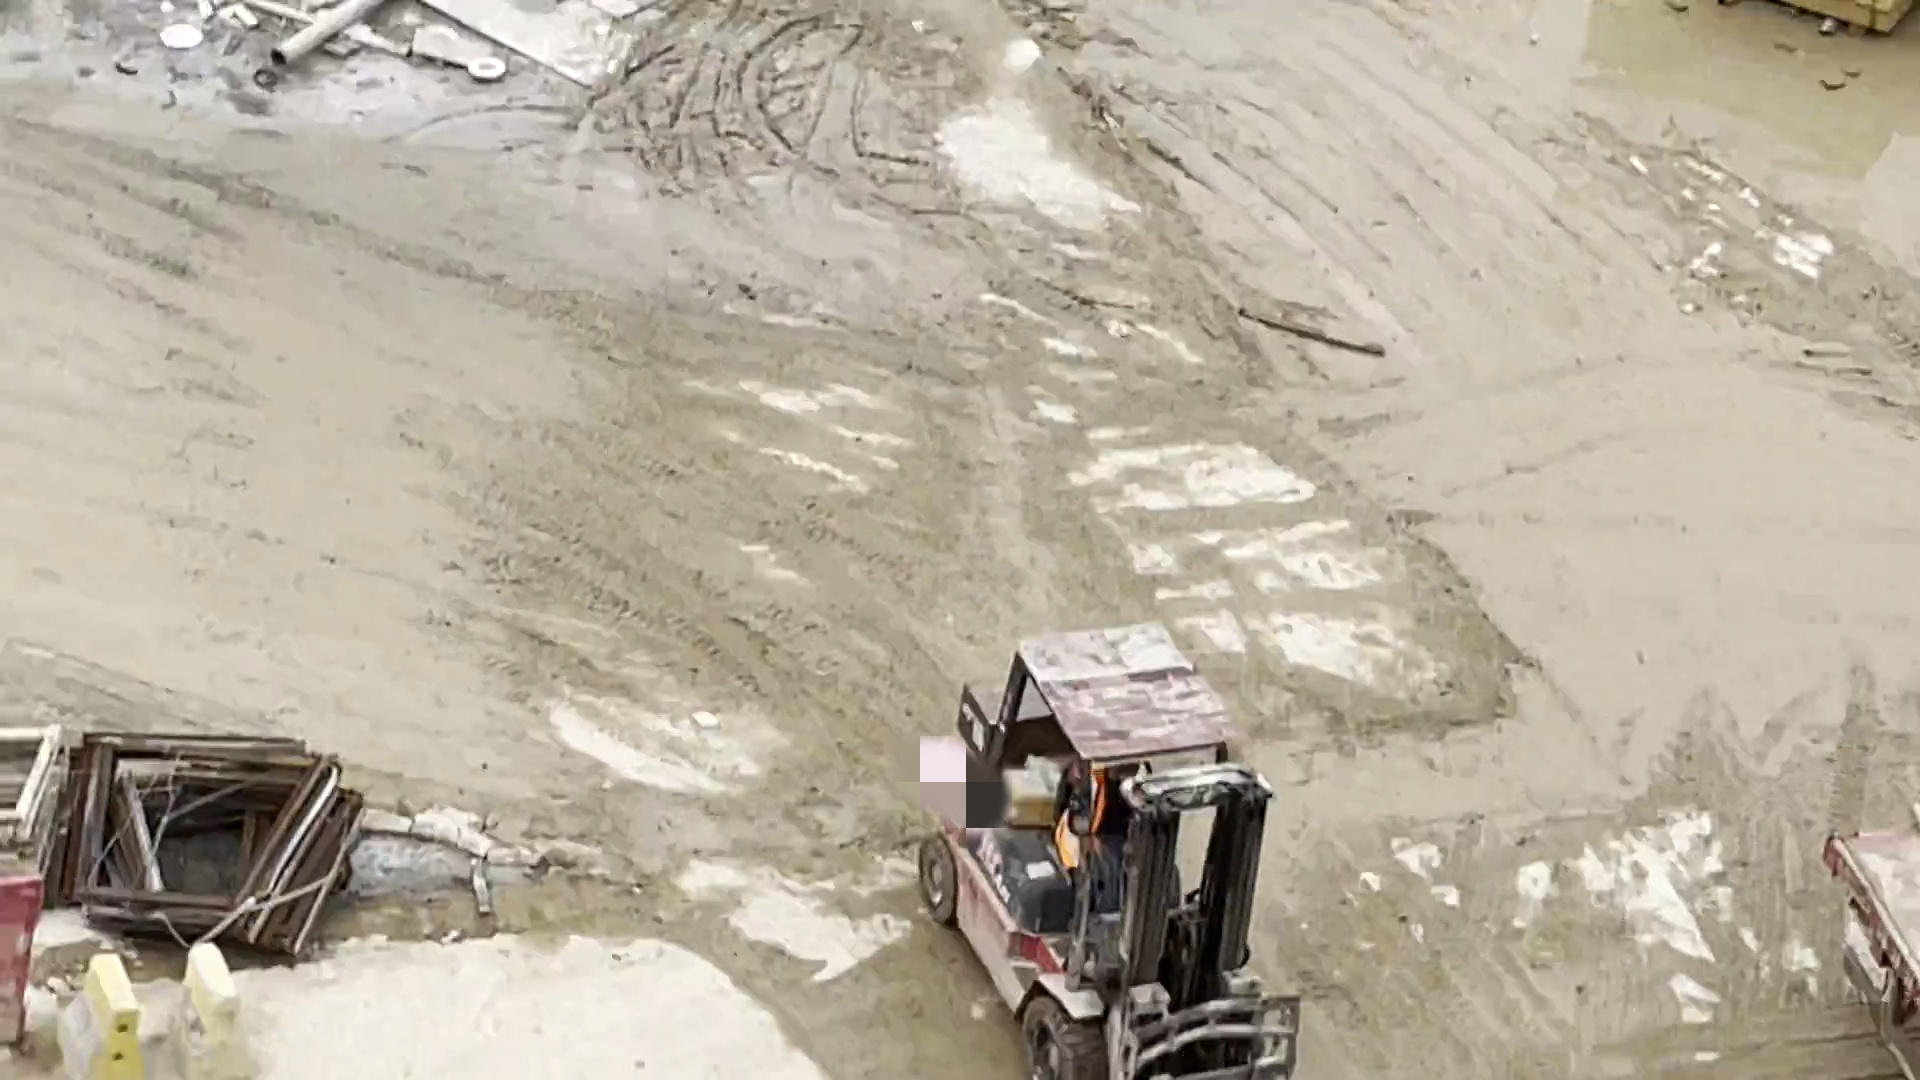vest: (1058, 770, 1145, 884)
